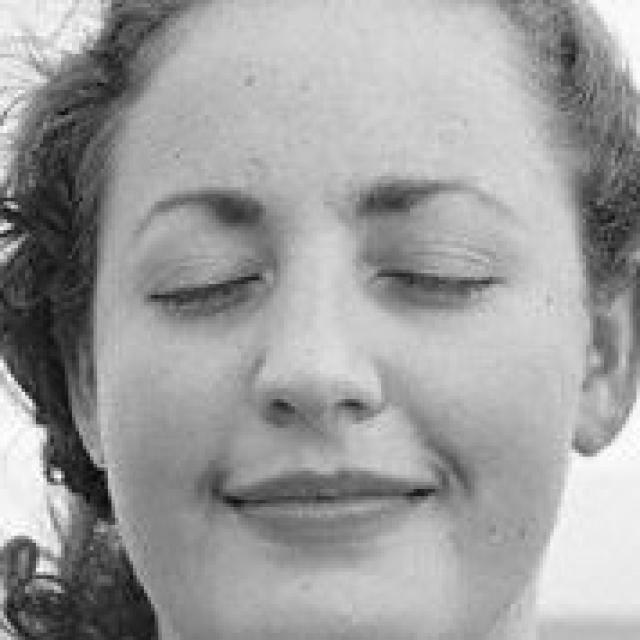real: (80, 87, 588, 627), (138, 202, 518, 352)
